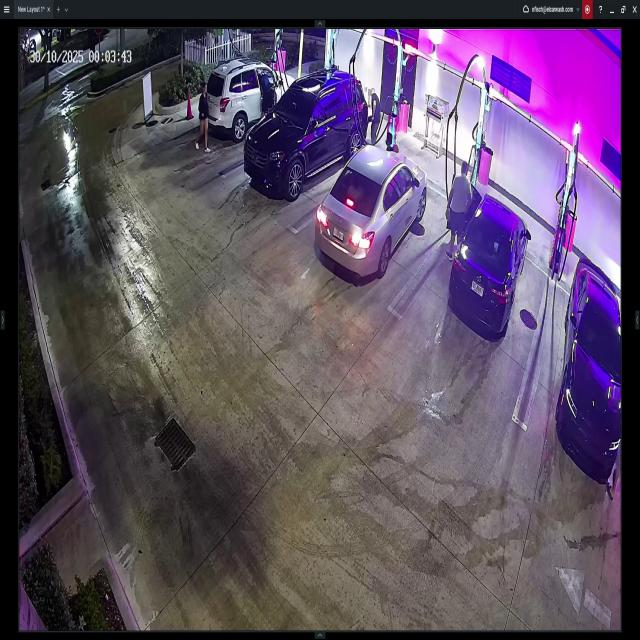Car: (246, 72, 370, 196), (316, 146, 427, 281), (554, 256, 620, 470), (449, 174, 530, 336), (206, 58, 294, 140)
